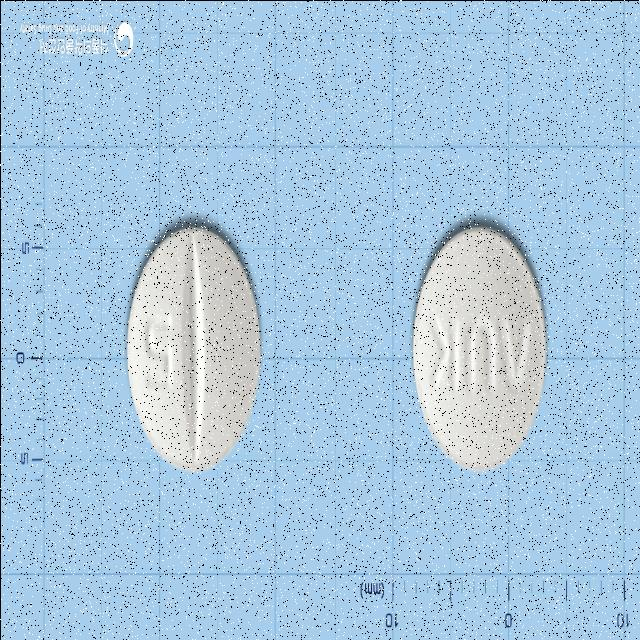Ciprox: (406, 214, 552, 478), (123, 217, 265, 473)
